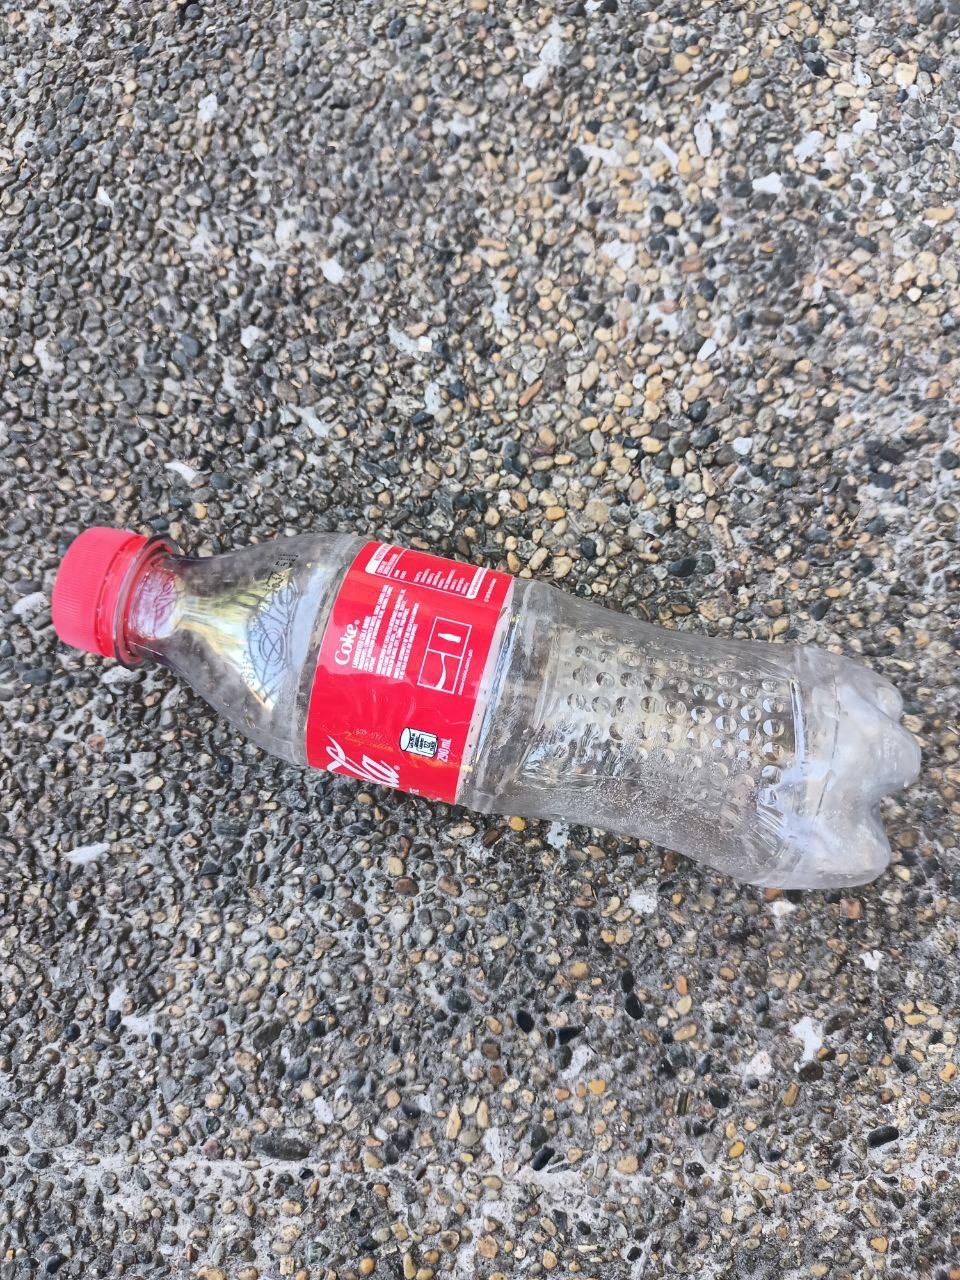plastic: (11, 464, 935, 969)
